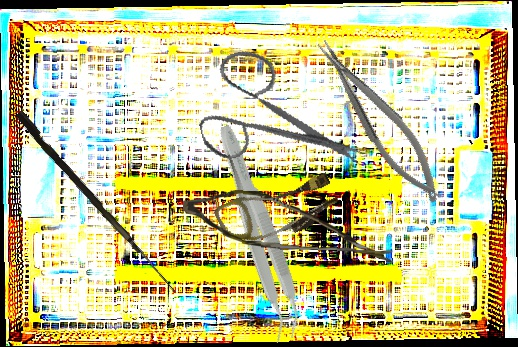Cannula: (212, 159, 344, 261)
Hook Surgical: (12, 110, 184, 293)
Iris Scissors: (183, 27, 367, 202)
Micro Scissor: (180, 187, 400, 264)
Needle Holder: (309, 27, 452, 213)
Tissue Forceps: (202, 121, 312, 344)
